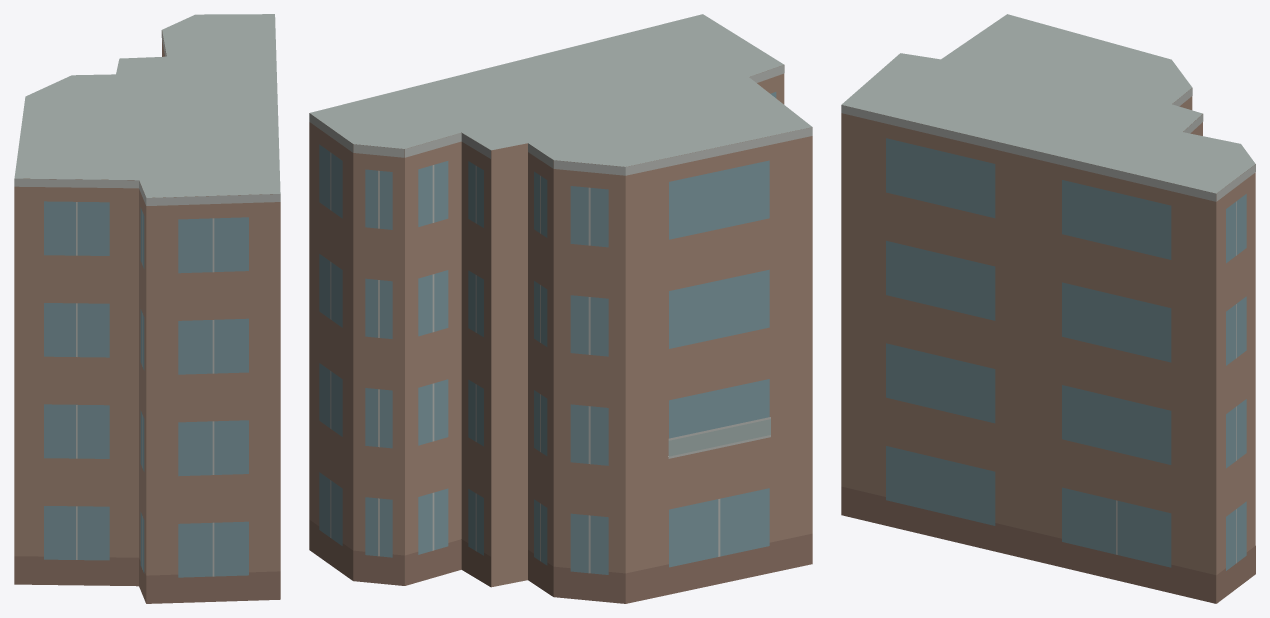
The model's file is survey-upis-32990709.glb.
The picture shows the model from 3 angles, left to right: view 1: azimuth 30°, elevation 25°; view 2: azimuth 150°, elevation 25°; view 3: azimuth 270°, elevation 25°; orthographic projection. The views are drawn at different scales.
Visible parts, largest first — view 1: survey-upis-32990709.tmp; view 2: survey-upis-32990709.tmp; view 3: survey-upis-32990709.tmp.
Boxes of the visible parts, x1,y1,x2,y2 form: survey-upis-32990709.tmp: (14,14,280,603); survey-upis-32990709.tmp: (309,14,812,603); survey-upis-32990709.tmp: (841,14,1255,603).
Size of the model in its own units: 11.37 by 12.1 by 11.09.
